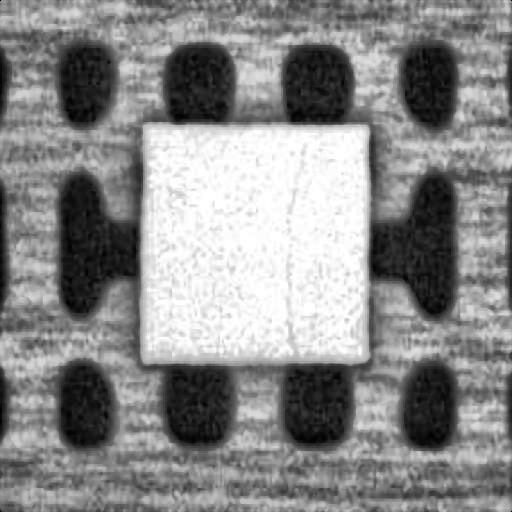DIE_CRACK: (276, 146, 308, 355)
